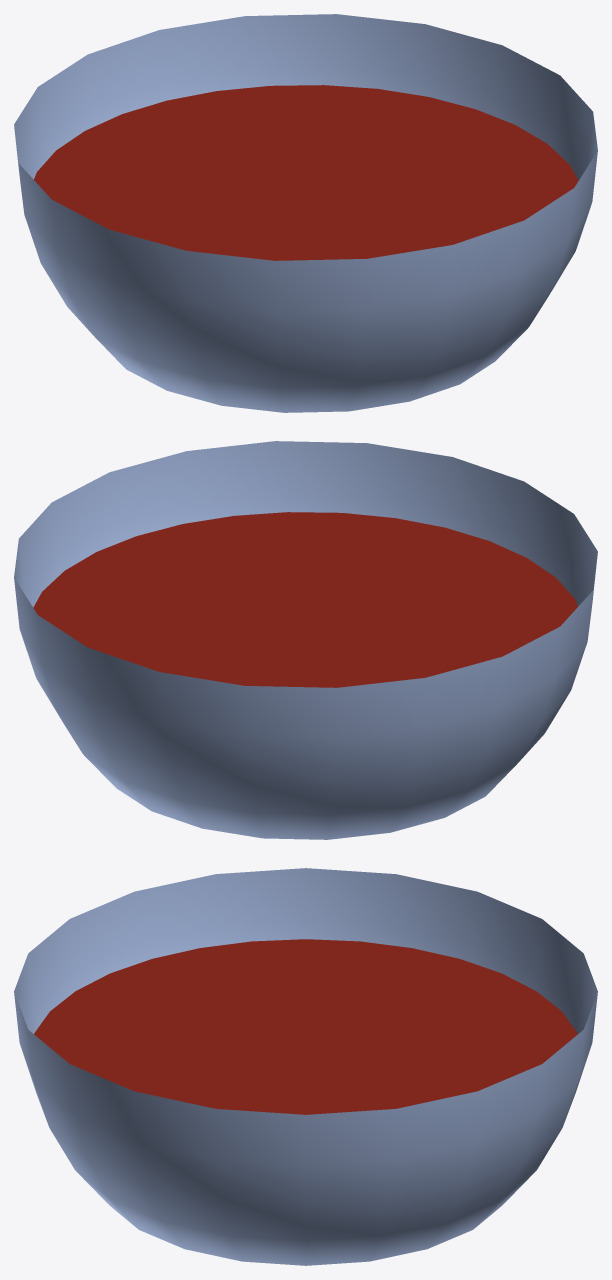
File: salsa_tomate.glb
The picture shows the model from 3 angles, top to bottom: view 1: azimuth 30°, elevation 25°; view 2: azimuth 150°, elevation 25°; view 3: azimuth 270°, elevation 25°; orthographic projection.
Parts seen in each view (by area): view 1: Sphere, Circle; view 2: Sphere, Circle; view 3: Sphere, Circle.
Part boxes in pixels (x1,y1,x2,y2): Sphere: (14, 14, 597, 412); Circle: (34, 85, 578, 260); Sphere: (14, 441, 597, 839); Circle: (33, 512, 577, 687); Sphere: (14, 868, 597, 1265); Circle: (34, 939, 577, 1114).
Size of the model in its own units: 2 by 0.7071 by 2.
